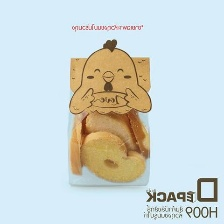snack: (59, 33, 159, 192)
